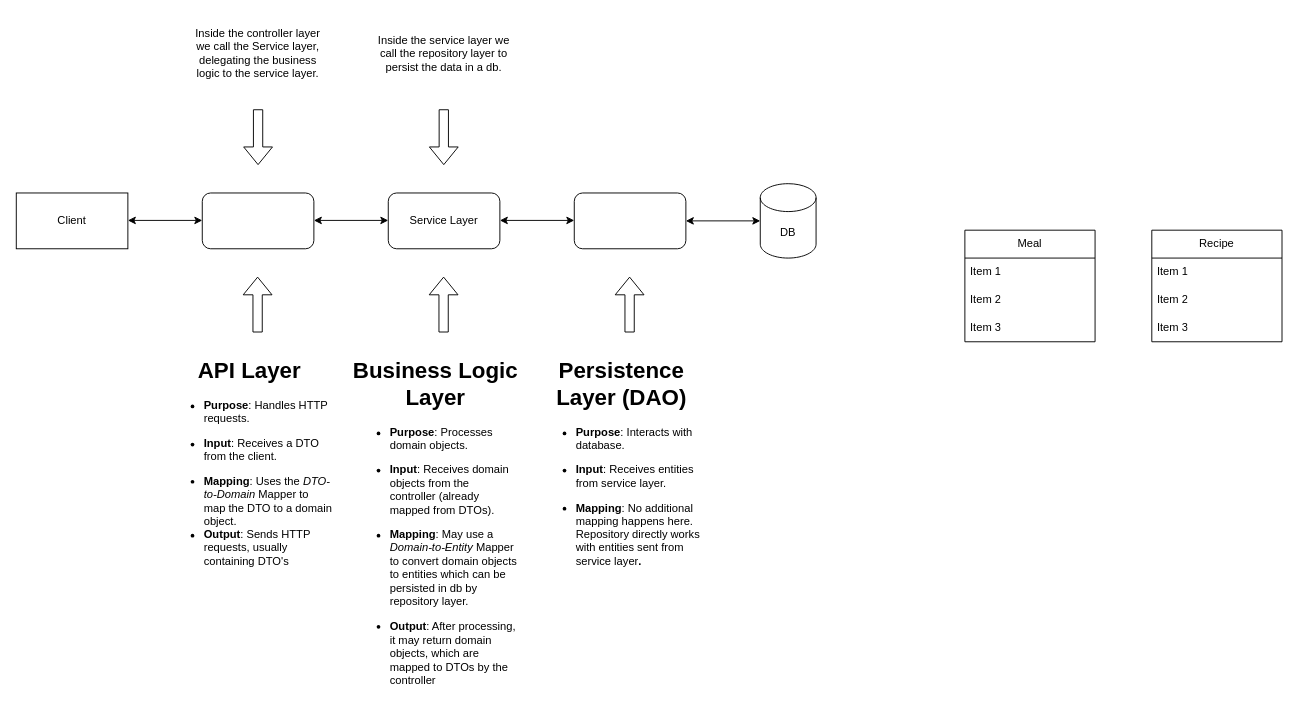
The diagram is 1298 pixels wide and 723 high, and some of its shapes have lost their labels. Each missing label, with the box of its shape:
Controller Layer: (201, 192, 314, 249)
Repository Layer: (573, 192, 686, 249)
